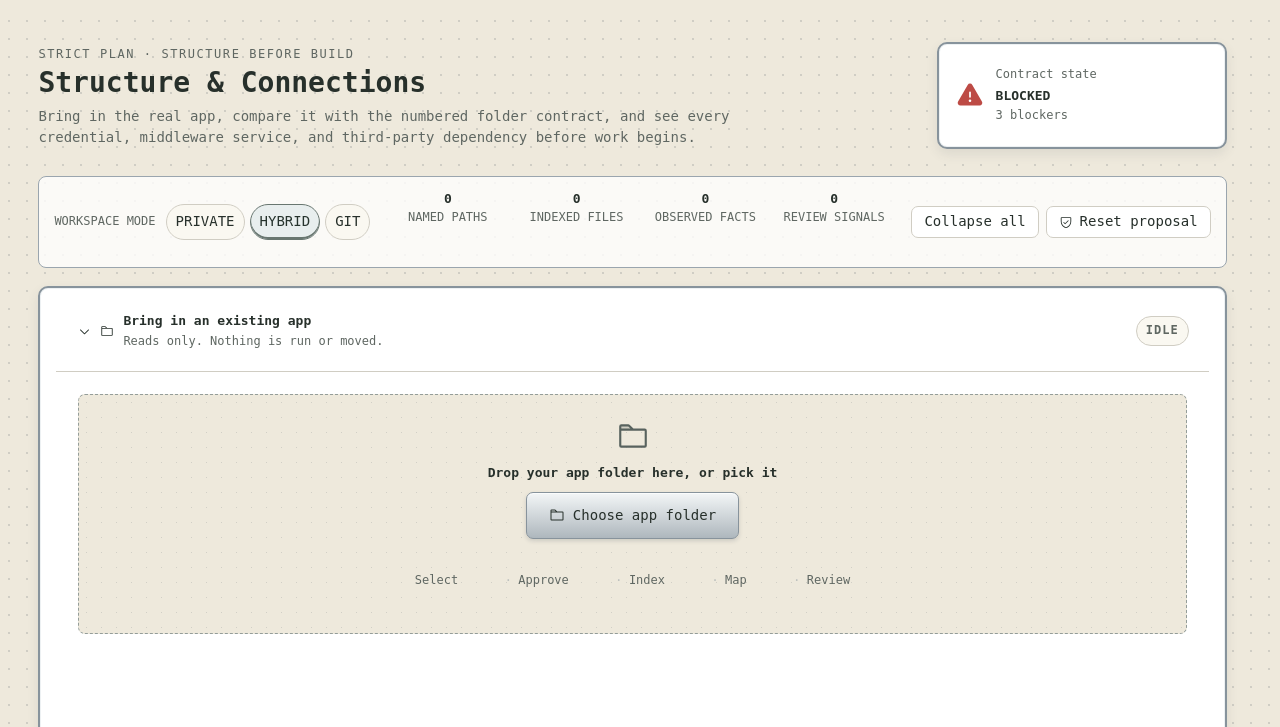
Test: Structure workspace intake and connection map › folder preview stays visible if later content verification fails
What coordinates should you click on to do the following:
click the button "Choose app folder"
I would click on:
 (632, 515)
Its box is [526,492,739,539].
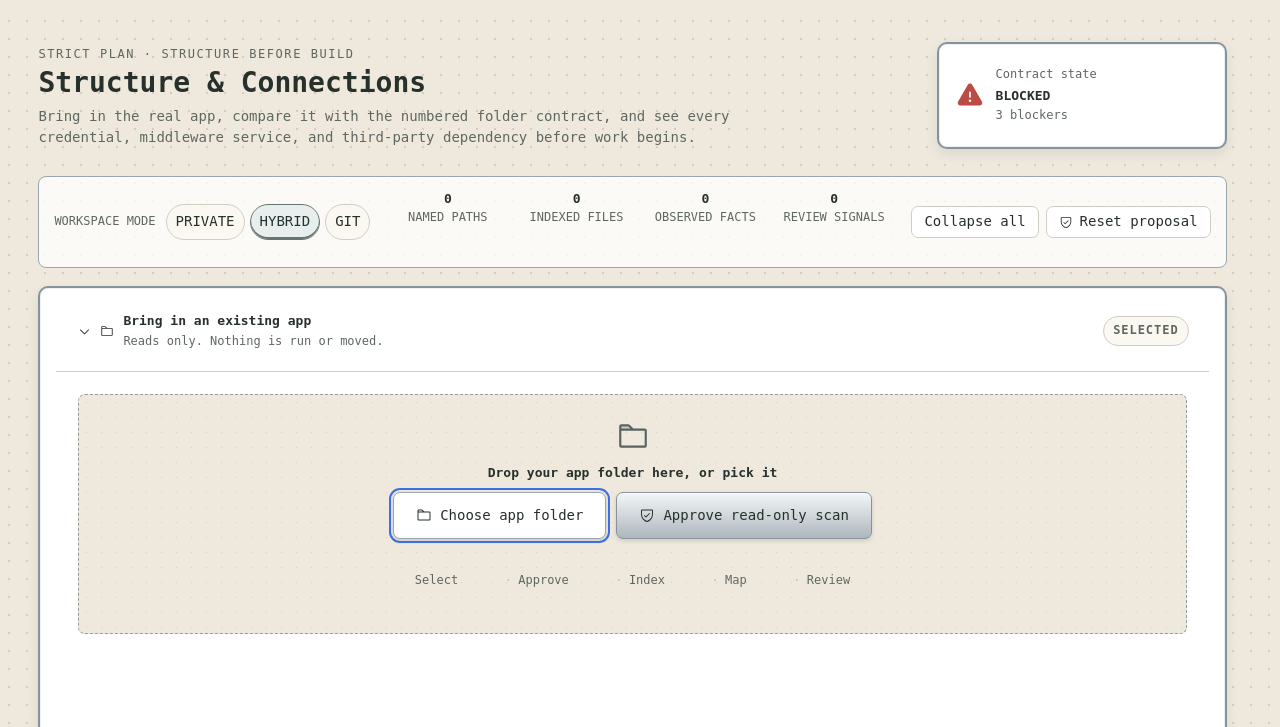
What coordinates should you click on to do the following:
click the button "Approve read-only scan"
I would click on:
 (744, 515)
Its box is [616,492,872,539].
(page scrolled)
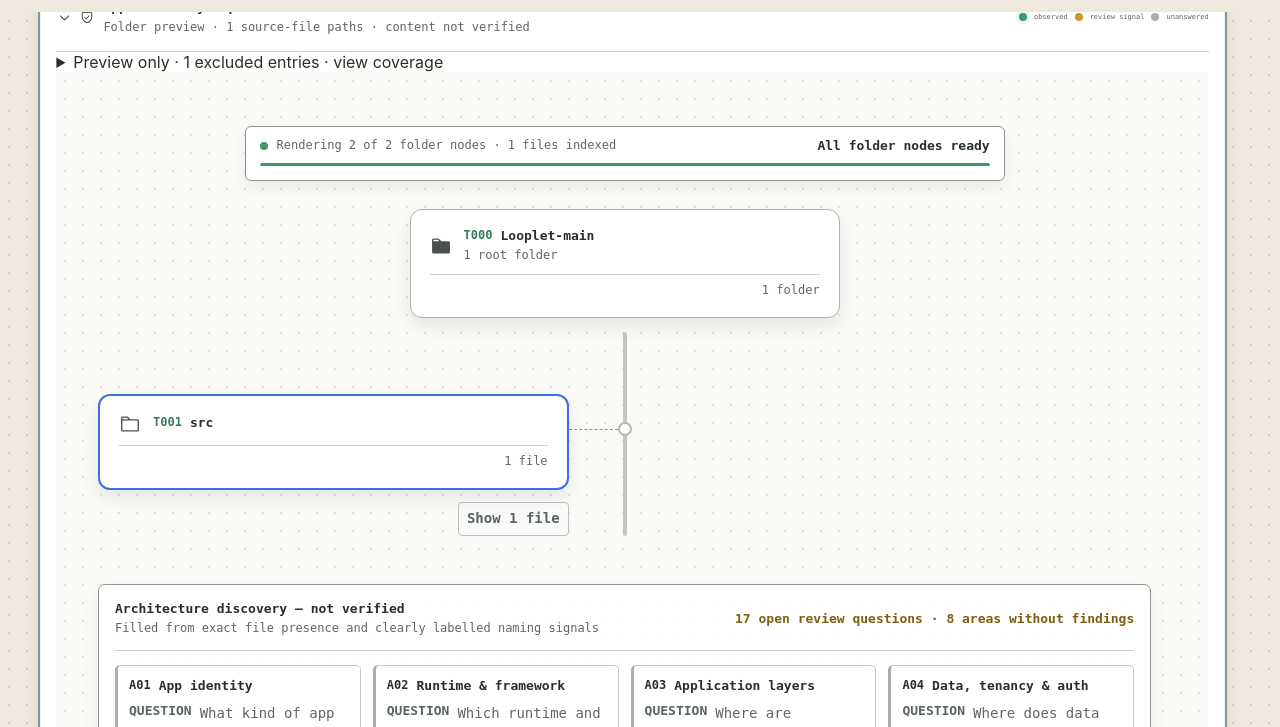
Now the text "Folder preview · 1 source-file paths · content not verified" is shown, box [103,19,530,36]
Now the list with class "workspace-structure-tree" is shown, box [98,209,840,536]
